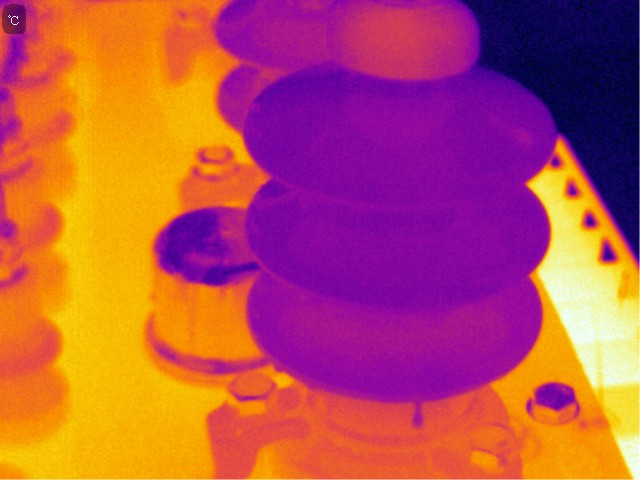Oil: (335, 1, 474, 86), (410, 396, 426, 430), (270, 358, 287, 374)
